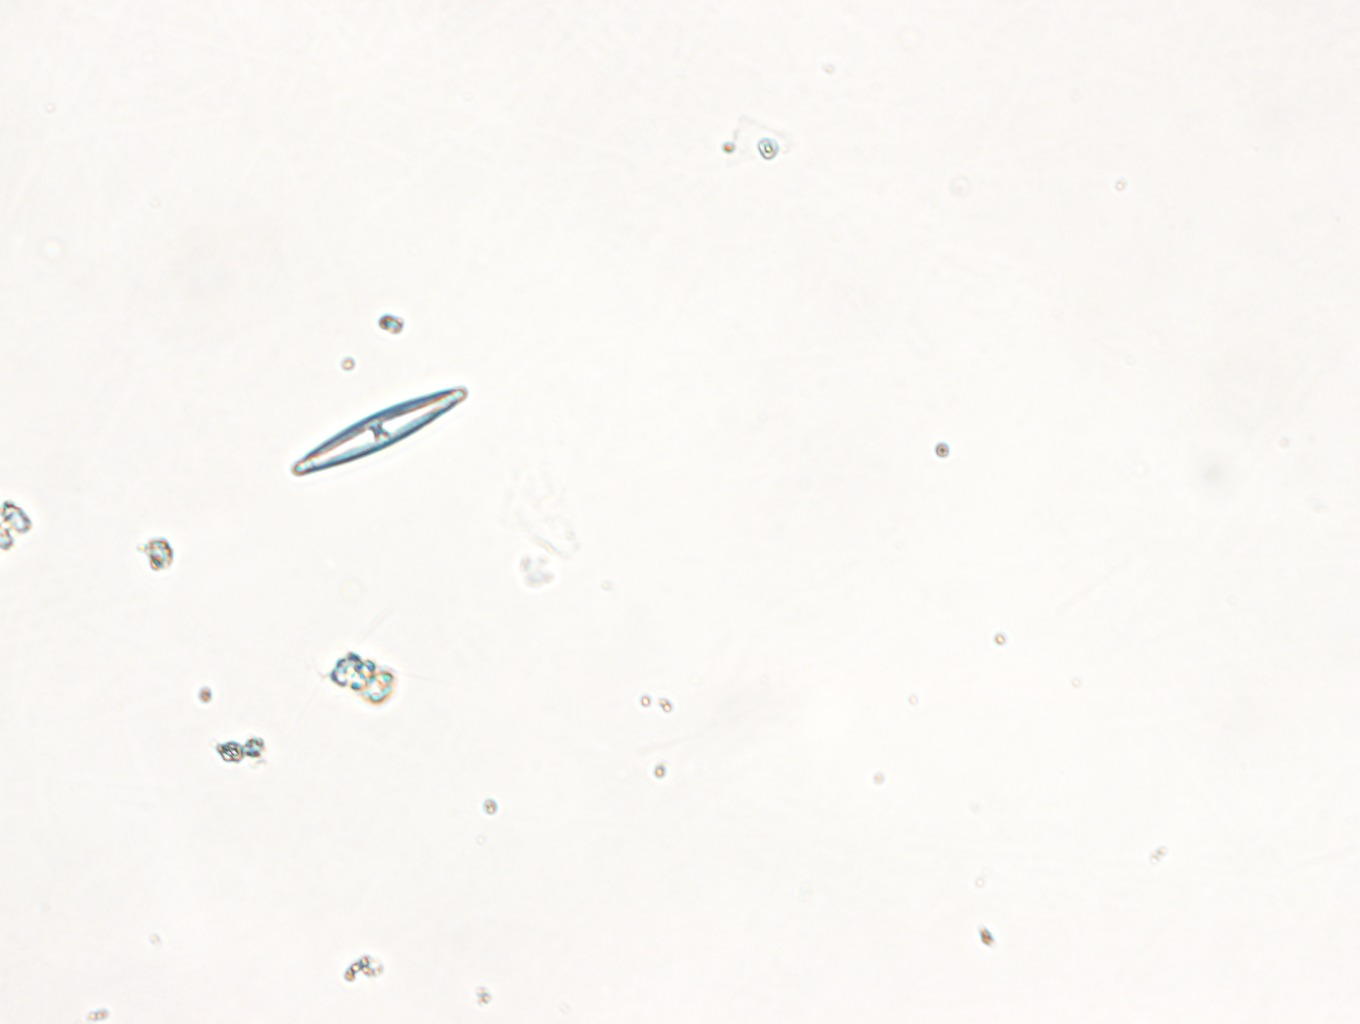navicula: (283, 381, 476, 478)
